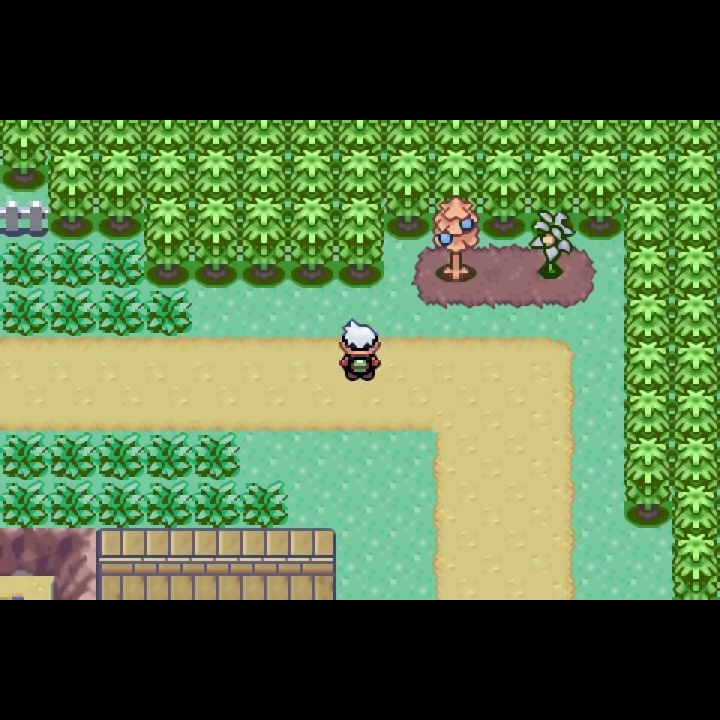grass: (96, 432, 146, 482), (239, 479, 289, 528), (192, 433, 242, 482), (144, 480, 194, 528), (1, 432, 49, 482), (48, 431, 96, 481), (145, 287, 193, 337), (1, 239, 48, 290), (97, 240, 144, 291), (49, 479, 97, 528), (48, 288, 98, 335), (48, 240, 95, 290), (1, 480, 49, 528), (145, 433, 193, 480), (97, 289, 144, 336), (1, 289, 48, 336), (97, 480, 145, 526), (194, 481, 240, 528)
house: (95, 527, 338, 600)
npc: (337, 318, 383, 382)
wall: (335, 196, 386, 290), (287, 196, 336, 292), (240, 196, 288, 293), (622, 435, 671, 528), (48, 148, 96, 241), (194, 196, 240, 293), (144, 197, 192, 289), (575, 148, 623, 240), (480, 148, 528, 240), (96, 149, 144, 240), (385, 148, 431, 242), (1, 120, 48, 191), (672, 534, 720, 598), (528, 148, 575, 211), (431, 148, 481, 199), (671, 197, 720, 247), (624, 245, 672, 296), (671, 388, 720, 437), (672, 292, 720, 342), (672, 150, 720, 200), (240, 147, 288, 196), (335, 149, 383, 198), (623, 197, 672, 245), (672, 485, 720, 534), (672, 436, 720, 485), (624, 294, 671, 344), (623, 342, 671, 390), (192, 148, 241, 195), (287, 150, 336, 197), (672, 342, 720, 389), (623, 389, 671, 435), (625, 149, 671, 197), (674, 245, 720, 293), (145, 149, 192, 195), (431, 120, 481, 149), (384, 120, 432, 150), (672, 120, 720, 150), (335, 121, 384, 150), (146, 120, 193, 150), (96, 120, 145, 148), (480, 120, 529, 148), (576, 120, 625, 148), (240, 121, 288, 149), (626, 120, 672, 149), (289, 121, 336, 149), (529, 121, 576, 149), (49, 121, 96, 148), (192, 121, 239, 147)
